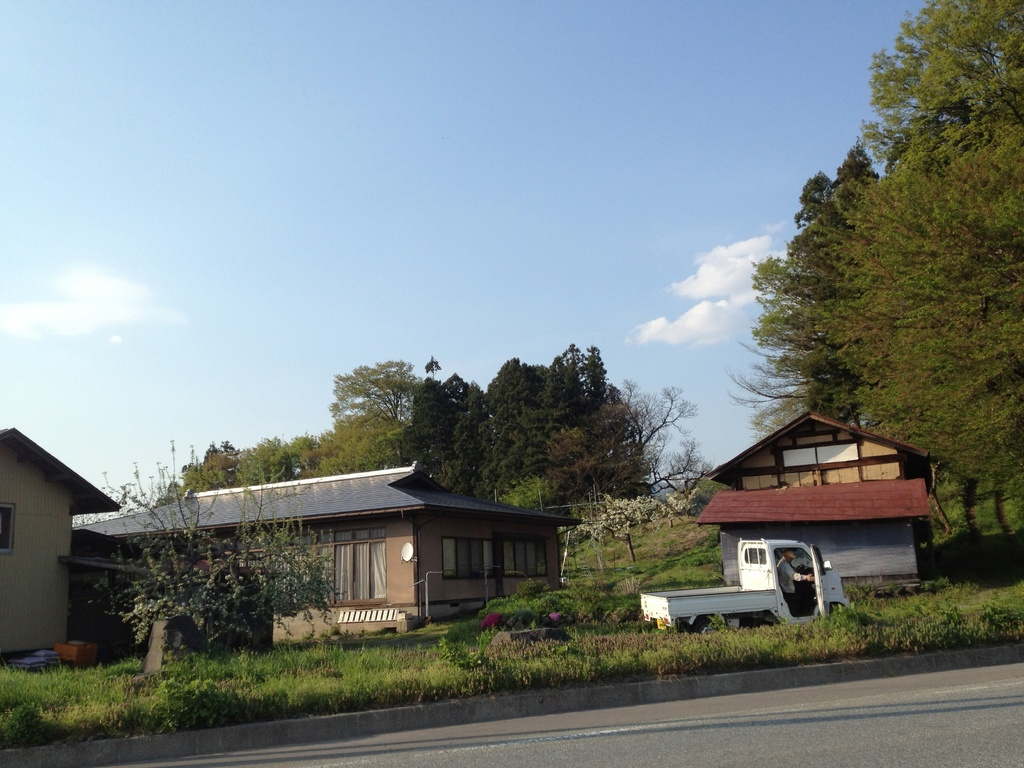truck: (624, 520, 877, 647)
